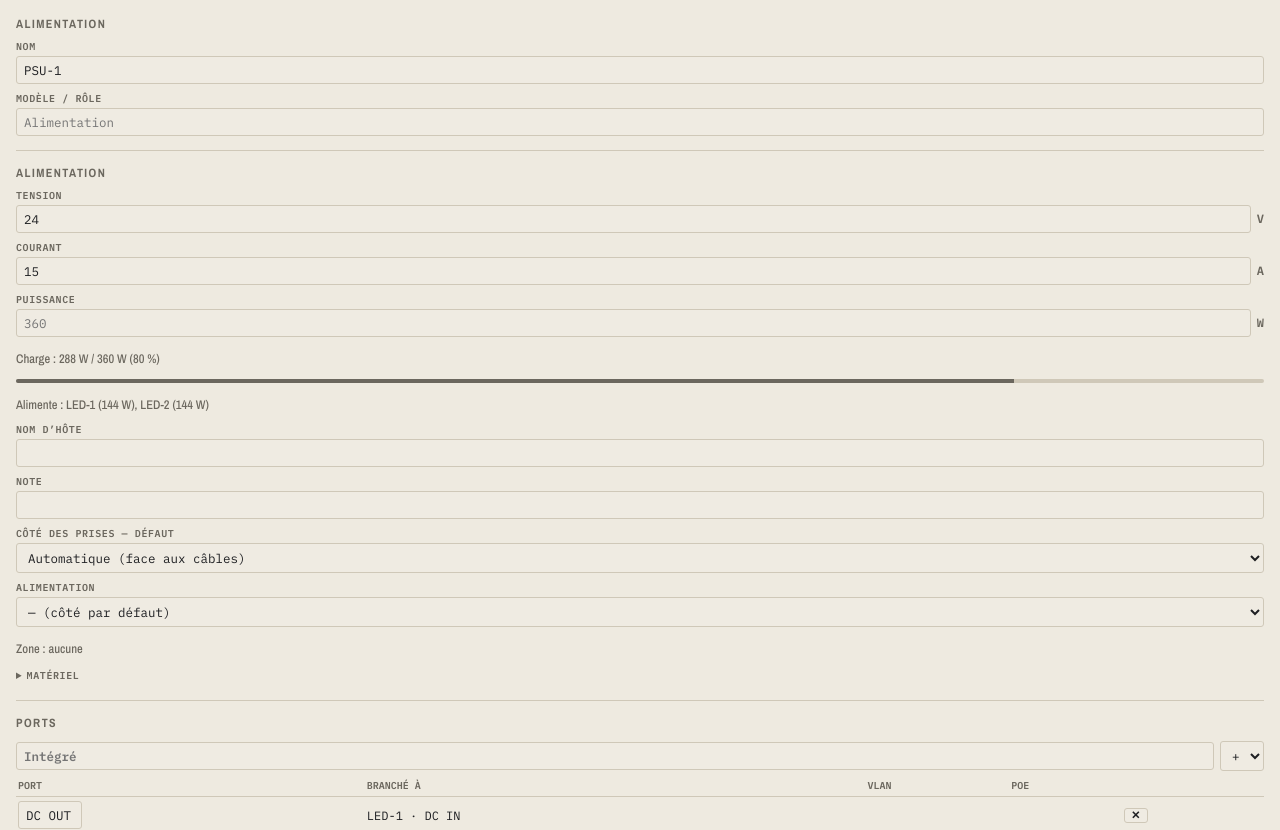
Test: alimentation › signale V × I différent de la puissance tapée
Type "350" into the field named "Puissance (W)". click: (633, 323)
box: [16,309,1251,337]
Then press Enter
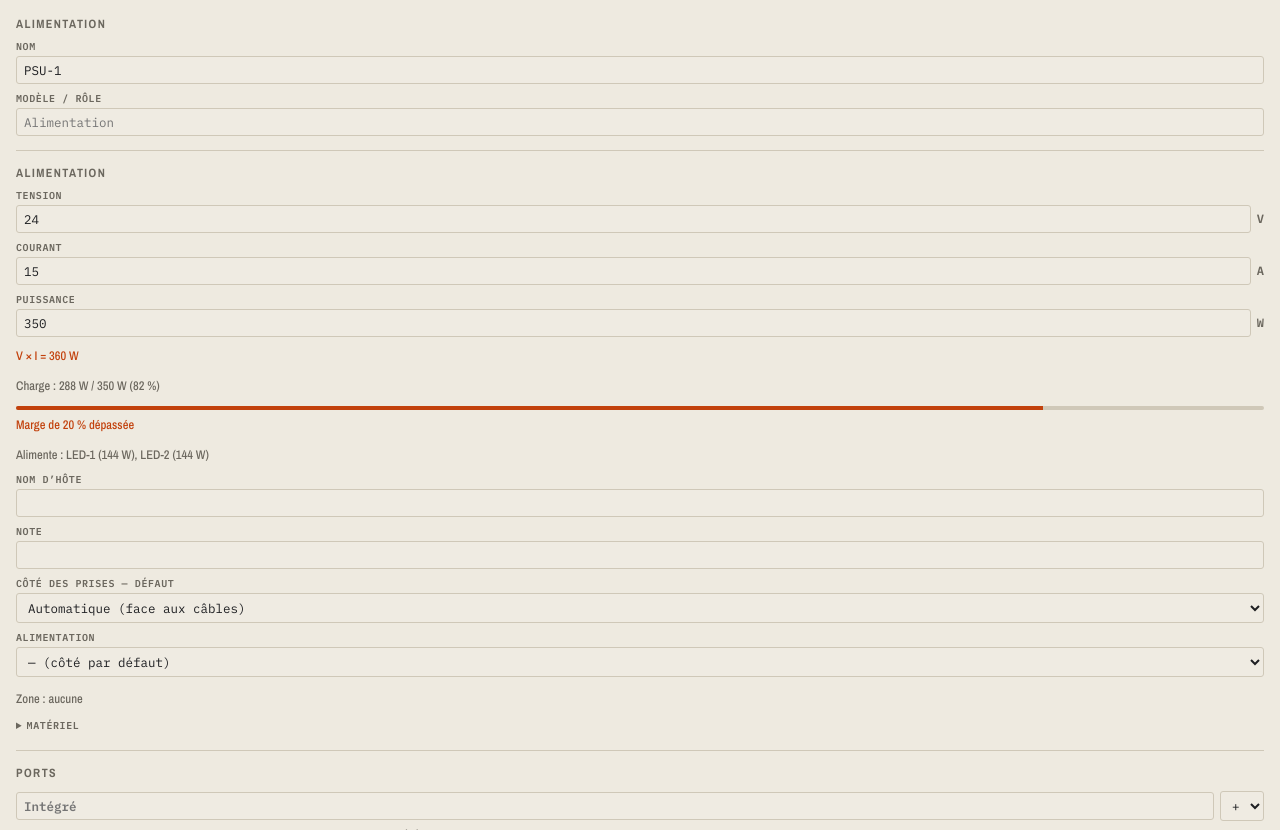
Expected: the text "V × I = 360 W" is shown, [16,347,79,364]
